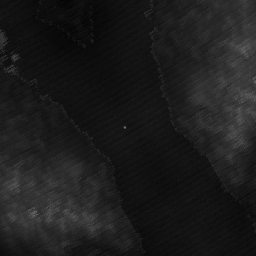Target: (121, 124, 127, 129)
